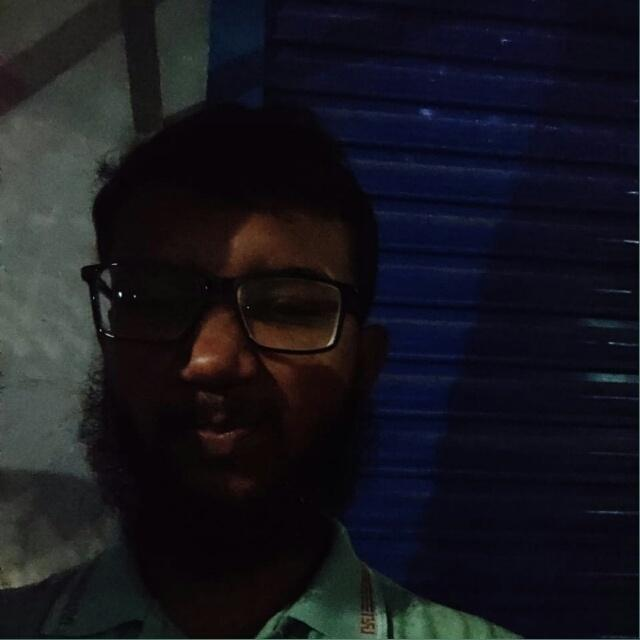Disgust: (72, 139, 387, 578)
